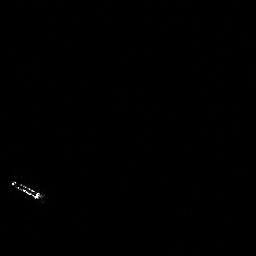ship: (11, 181, 41, 200)
